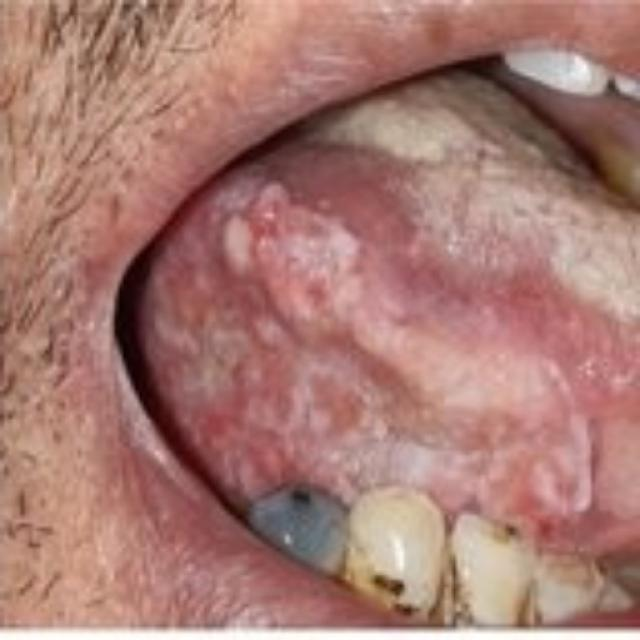leukoplakia-detection: (148, 168, 599, 543)
processing_area: (136, 69, 637, 577)
